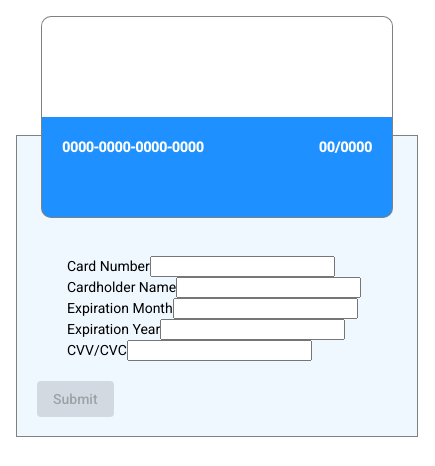
Number input › TC02 - when input is not a number of 16 digits should show error massage
Type "123456" into the field with id "number-input" at (243, 267), box [150,256,335,277]
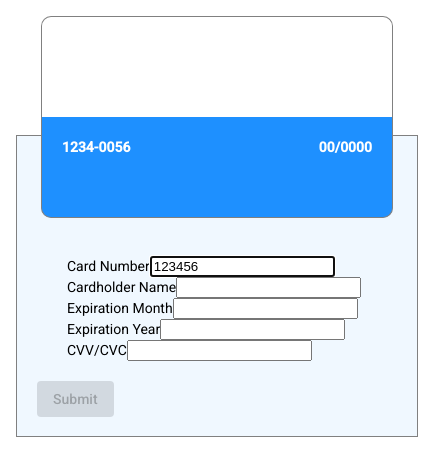
Click the field with id "name-input" at (269, 288), box [176,277,361,298]
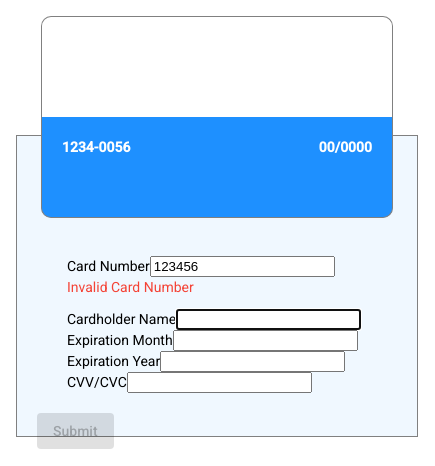
Check: the text with id "number-input-error" reads "Invalid Card Number", box [67,279,194,295]
